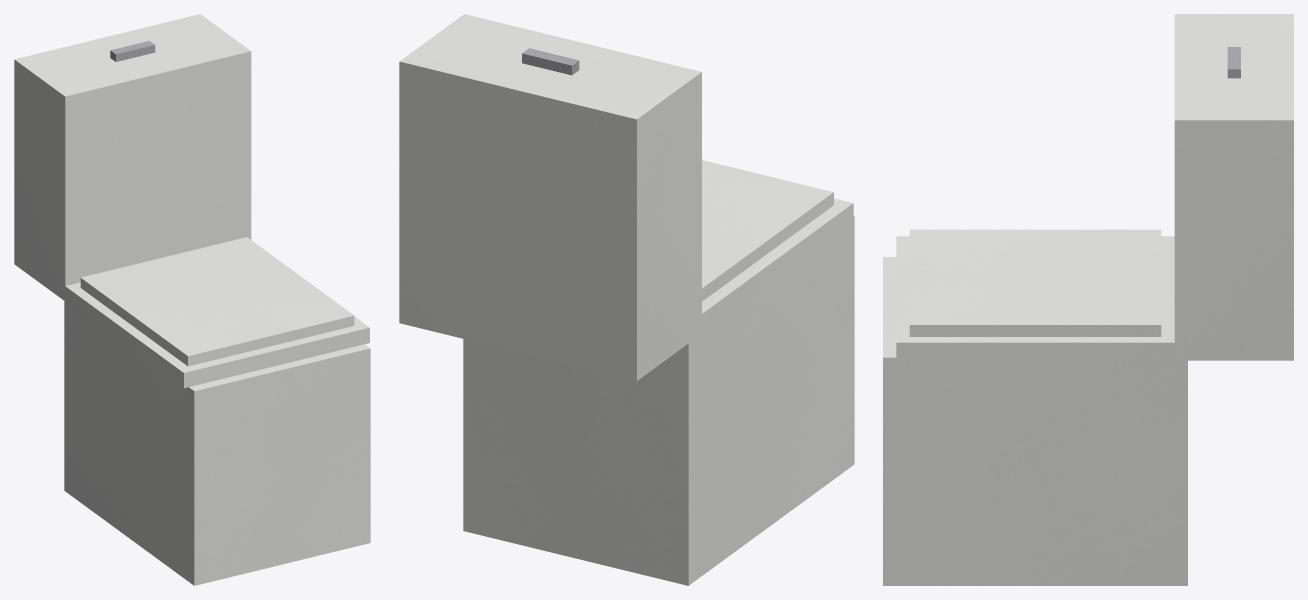
3 renders of one model, left to right at view 1: azimuth 30°, elevation 25°; view 2: azimuth 150°, elevation 25°; view 3: azimuth 270°, elevation 25°, orthographic. The views are drawn at different scales.
Parts seen in each view (by area): view 1: Toilet_Game; view 2: Toilet_Game; view 3: Toilet_Game.
Part boxes in pixels (x1,y1,x2,y2): Toilet_Game: (14,14,370,585); Toilet_Game: (399,14,854,585); Toilet_Game: (883,14,1293,585).
Bounding box in the file's own units: 0.38 × 0.795 × 0.62.
2 materials, 2 textured.
